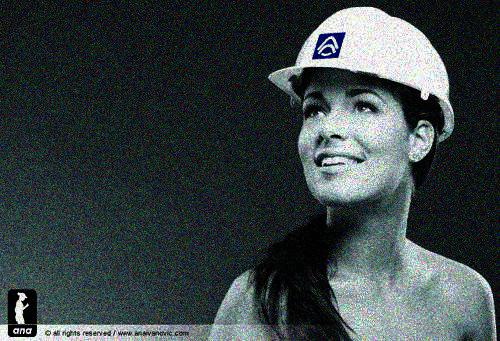helmet: (268, 5, 460, 208)
